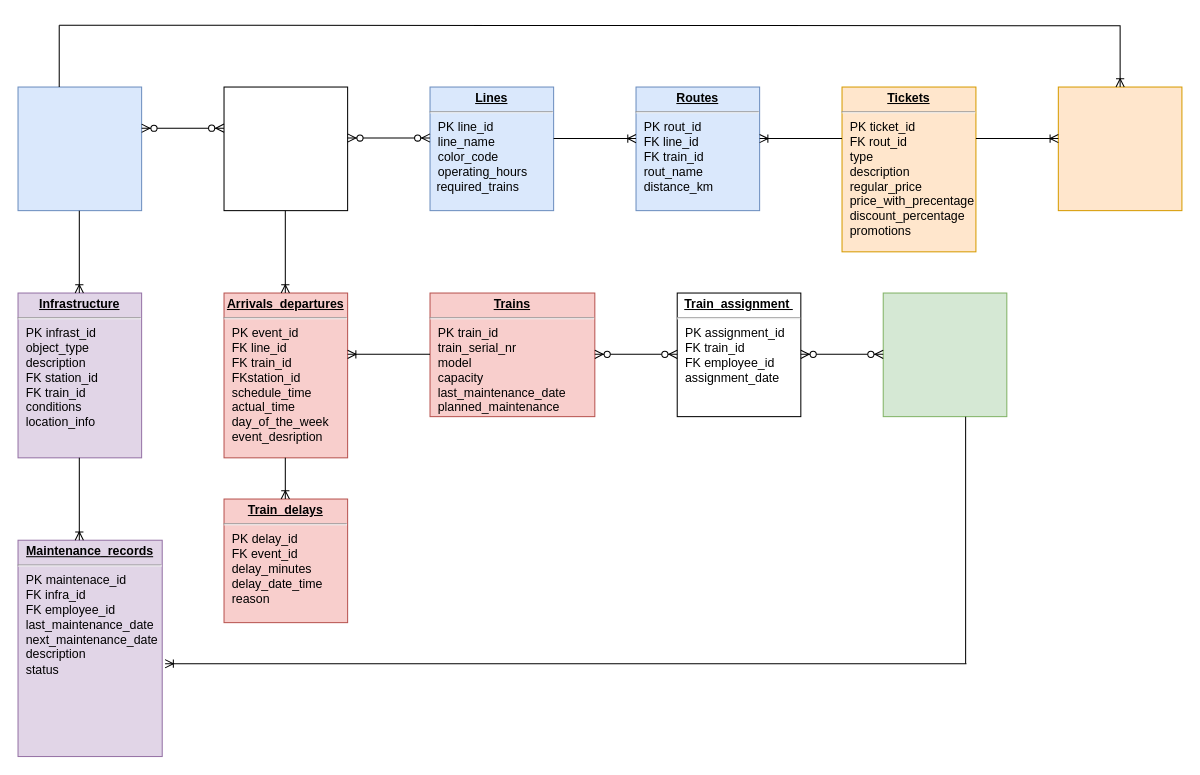
Image size: 1200x775. Some labels were removed from this diagram. The box of each missing label's shape, as (x1, y1, x2, y2) in pixels:
Employees PK employee_id full_name hire_date position: (882, 292, 1007, 417)
Line_station PK line_station_id FK line_id FK station_id sequence_nr: (223, 86, 348, 211)
Stations PK station_id station_name location status opening_date: (17, 86, 142, 211)
Tickets_purchase PK purchase_id FK ticket_id FK station_id date_time quanity: (1057, 86, 1182, 211)
